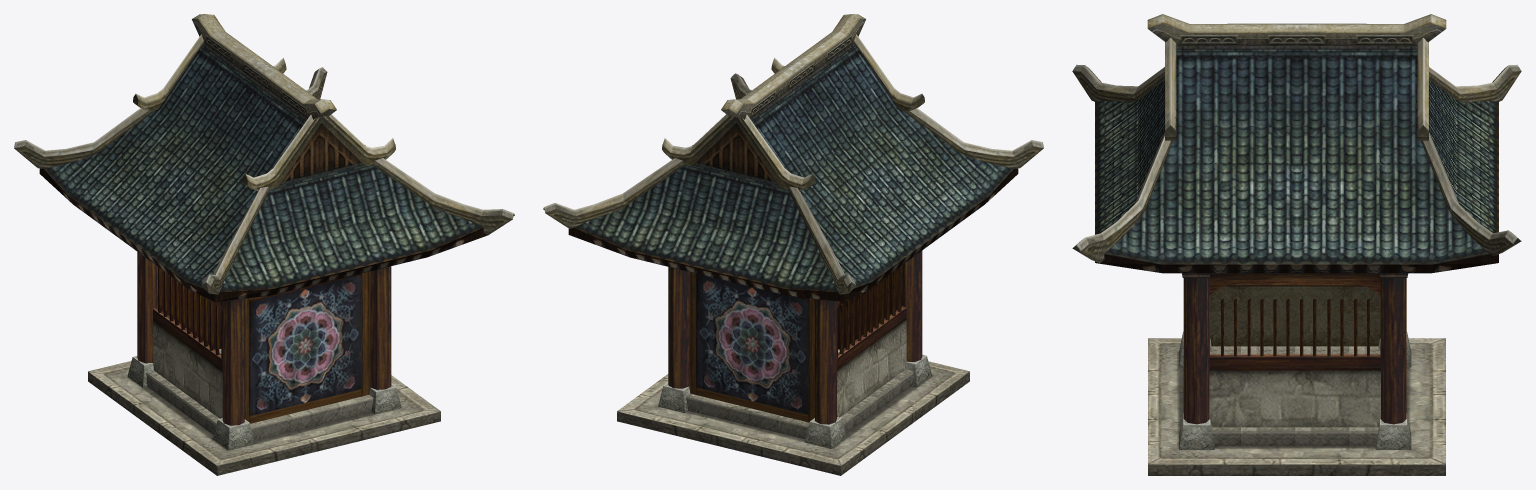
The model's file is gls_004-house2.glb.
3 views of the same model, side by side, from view 1: azimuth 30°, elevation 25°; view 2: azimuth 150°, elevation 25°; view 3: azimuth 270°, elevation 25° (orthographic). The views are drawn at different scales.
Parts seen in each view (by area): view 1: Object02; view 2: Object02; view 3: Object02.
Part boxes in pixels (x1=…): Object02: x1=14, y1=14, x2=514, y2=475; Object02: x1=543, y1=14, x2=1043, y2=475; Object02: x1=1072, y1=14, x2=1521, y2=475.
Bounding box in the file's own units: 5.23 × 5.5 × 5.63.
Materials: 1 (1 with a texture image).
